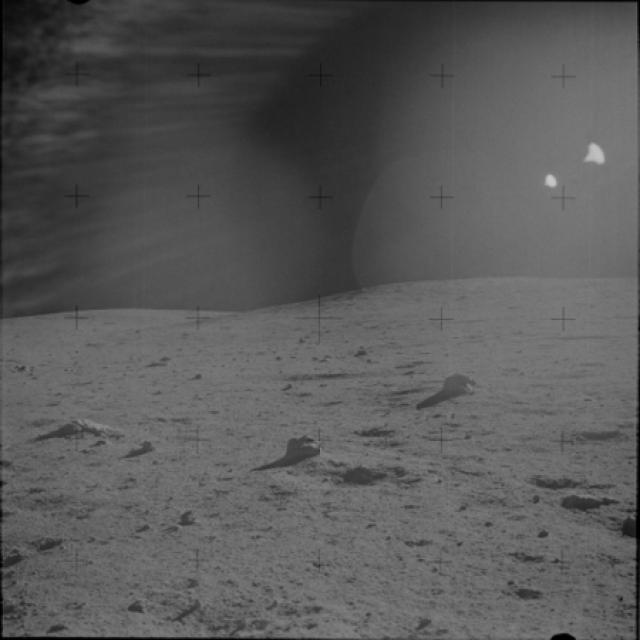crater: (269, 457, 395, 498)
rock: (45, 414, 126, 445), (431, 365, 484, 400), (162, 504, 214, 537), (558, 485, 613, 514), (2, 538, 48, 564), (280, 430, 318, 458), (135, 434, 174, 454), (147, 351, 176, 372)
